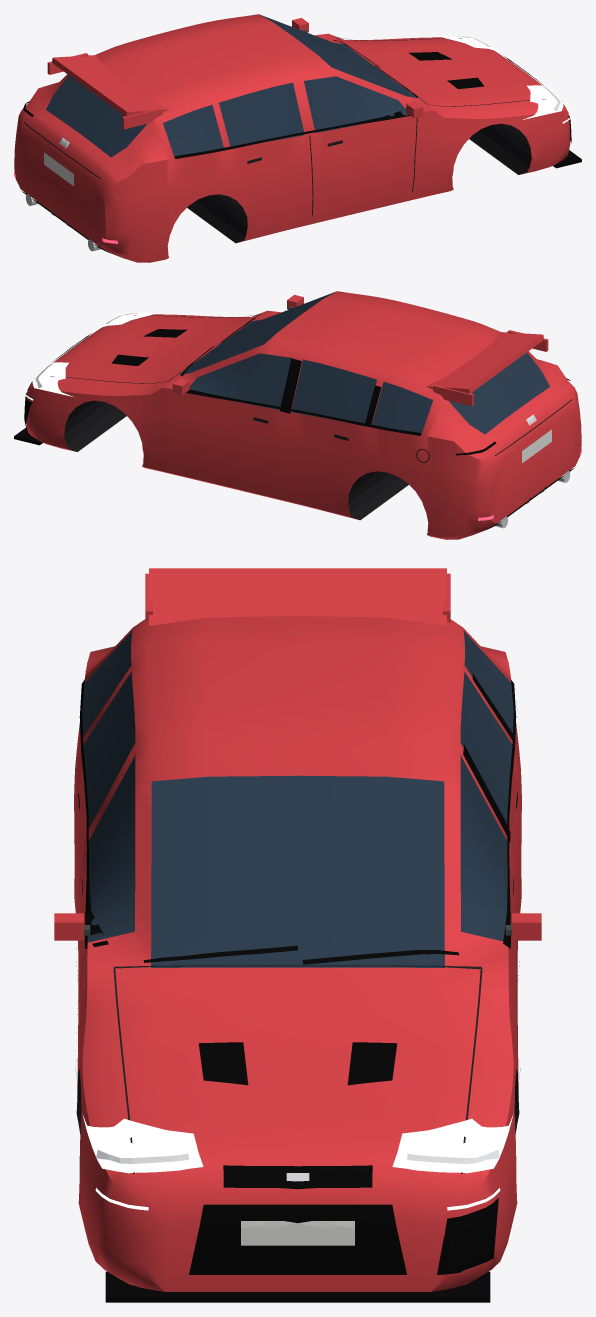
The model's file is ford-focus-rs-mk3.glb.
3 renders of one model, top to bottom at view 1: azimuth 30°, elevation 25°; view 2: azimuth 150°, elevation 25°; view 3: azimuth 270°, elevation 25°, orthographic. The views are drawn at different scales.
Visible parts, largest first — view 1: ford-focus-rs-mk3; view 2: ford-focus-rs-mk3; view 3: ford-focus-rs-mk3.
Boxes of the visible parts, x1,y1,x2,y2 form: ford-focus-rs-mk3: (14, 14, 581, 262); ford-focus-rs-mk3: (14, 291, 581, 539); ford-focus-rs-mk3: (54, 568, 541, 1302).
Bounding box in the file's own units: 4.44 × 1.35 × 1.96.
